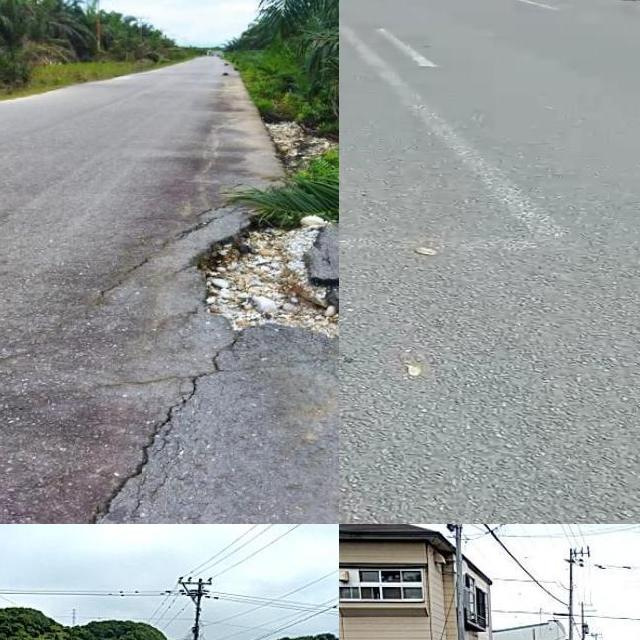Pinggir: (162, 156, 339, 397)
